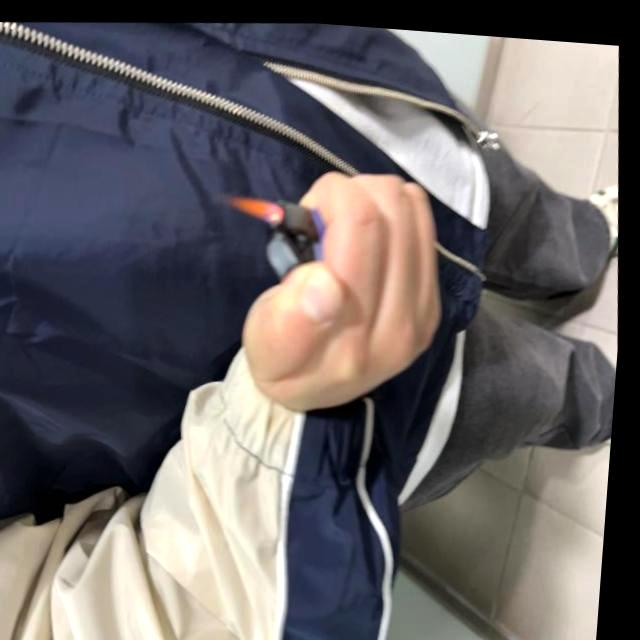fire: (225, 187, 288, 226)
